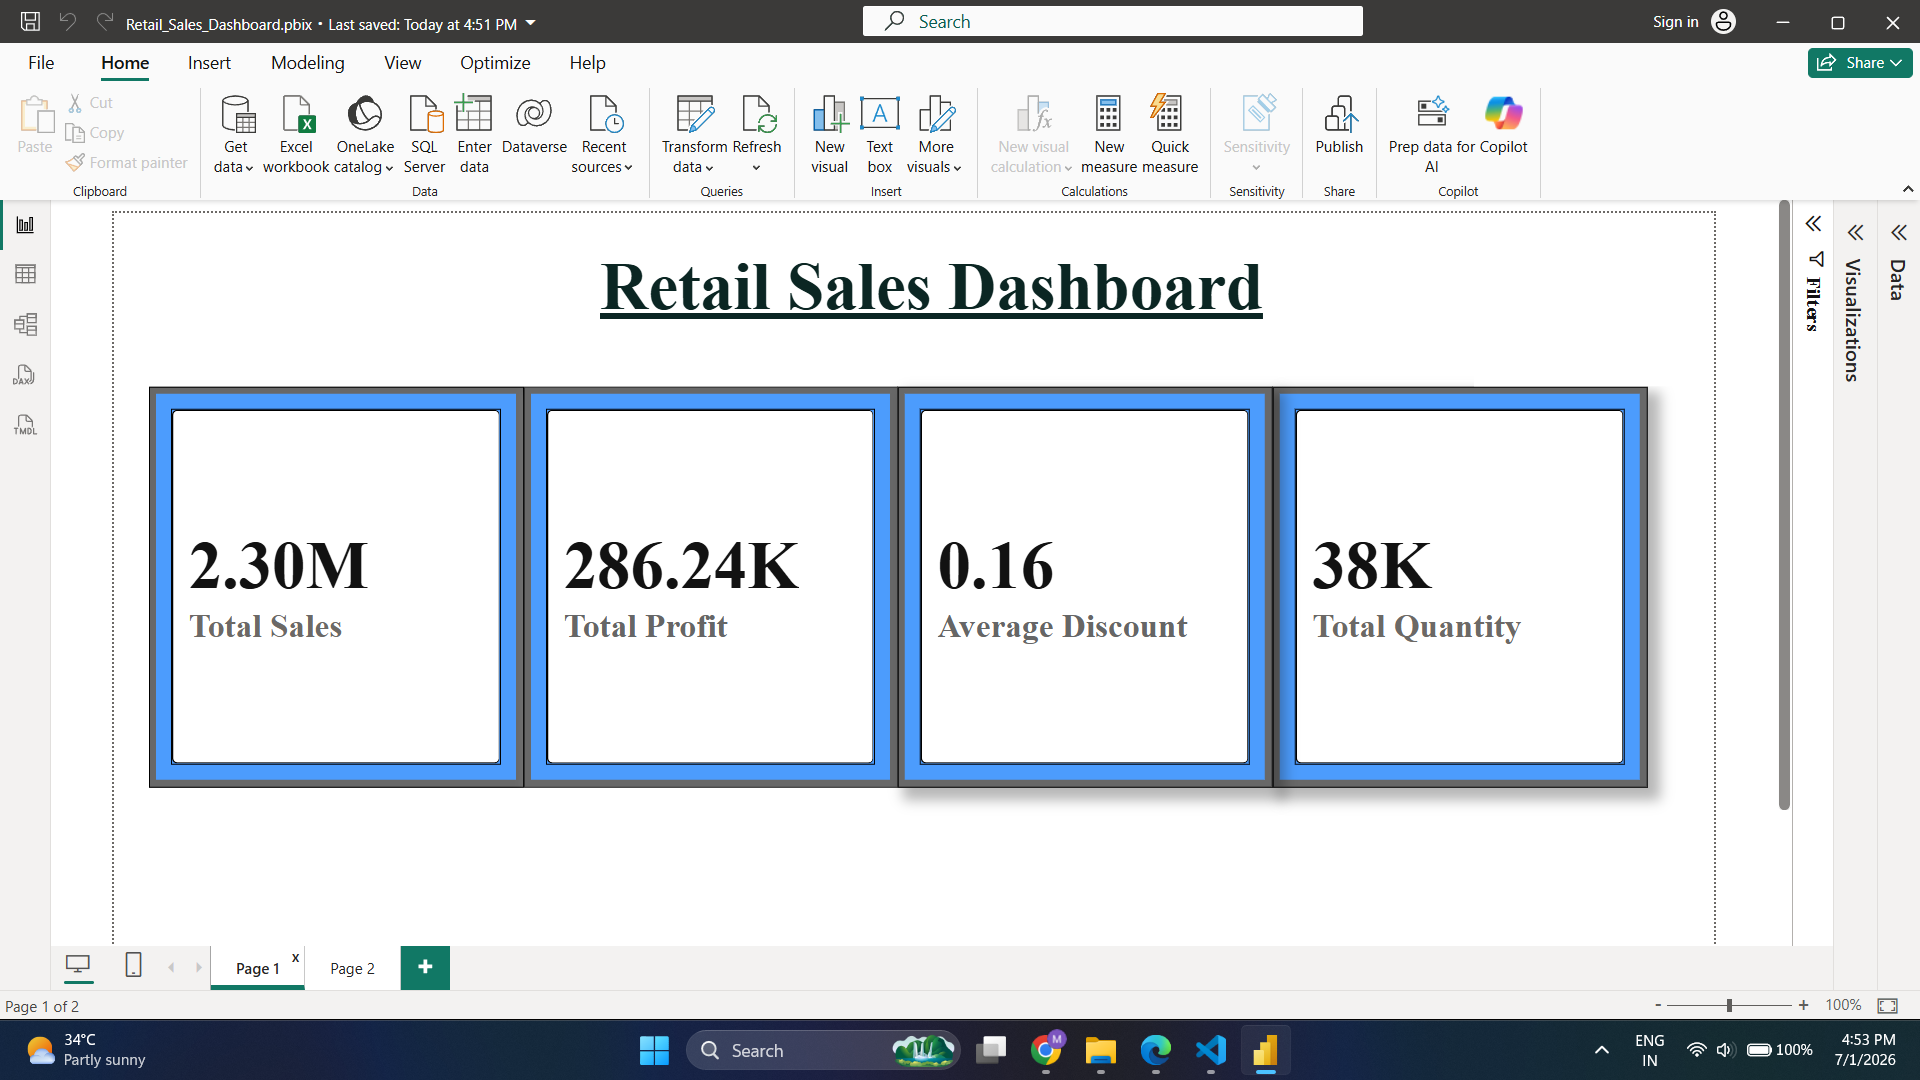

Layout of this report page (visuals, bound fields, positions):
{"tool":"powerbi","page":{"name":"Page 1","canvas":[1280,720],"ordinal":0},"visuals":[{"type":"cardVisual","fields":{"Data":["Sum(retail_sales_cleaned.Sales)"]},"box":[28.1,139.4,299.6,320.4],"z":0},{"type":"cardVisual","fields":{"Data":["Sum(retail_sales_cleaned.Profit)"]},"box":[327.7,139.4,299.6,320.4],"z":1000},{"type":"cardVisual","fields":{"Data":["Sum(retail_sales_cleaned.Quantity)"]},"box":[926.9,139.4,300,320.4],"z":2000},{"type":"cardVisual","fields":{"Data":["Avg(retail_sales_cleaned.Discount)"]},"box":[627.3,139.4,299.6,320.4],"z":3000},{"type":"textbox","box":[1088.3,69.7,192,31.8],"z":4000},{"type":"textbox","box":[1088.3,101.5,192,37.9],"z":5000},{"type":"textbox","box":[28.1,24.5,1252.2,77],"z":6000}]}

Visuals, with their boxes on the page's 1280x720 design canvas (x1, y1, x2, y2). These are canvas units, not pixel positions in the 1920x1080 screenshot, which may show the page scaled, cropped or inside an application window:
cardVisual - Sum(retail_sales_cleaned.Sales): Rect(28, 139, 328, 460)
cardVisual - Sum(retail_sales_cleaned.Profit): Rect(328, 139, 627, 460)
cardVisual - Sum(retail_sales_cleaned.Quantity): Rect(927, 139, 1227, 460)
cardVisual - Avg(retail_sales_cleaned.Discount): Rect(627, 139, 927, 460)
textbox: Rect(1088, 70, 1280, 102)
textbox: Rect(1088, 102, 1280, 139)
textbox: Rect(28, 24, 1280, 102)
